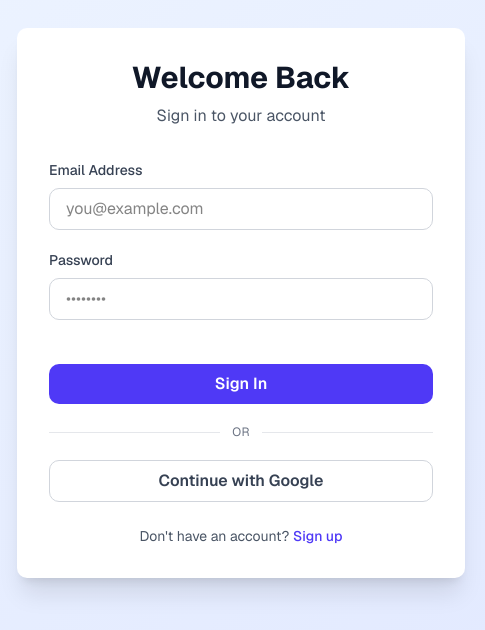
it: Login Component › Form Validation › shows password error when password is less than 6 characters
The image size is (485, 630).
Type "test@example.com" into the field with test id "email-input".
click(241, 209); type("test@example.com")  # box [49,188,433,230]
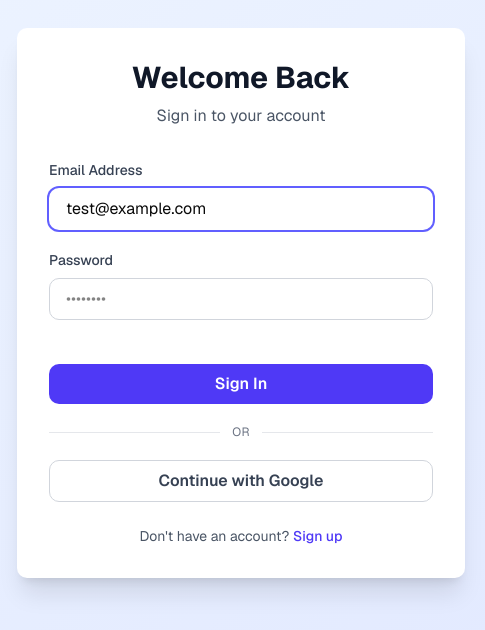
Type "short" into the password field with test id "password-input".
click(241, 299); type("short")  # box [49,278,433,320]
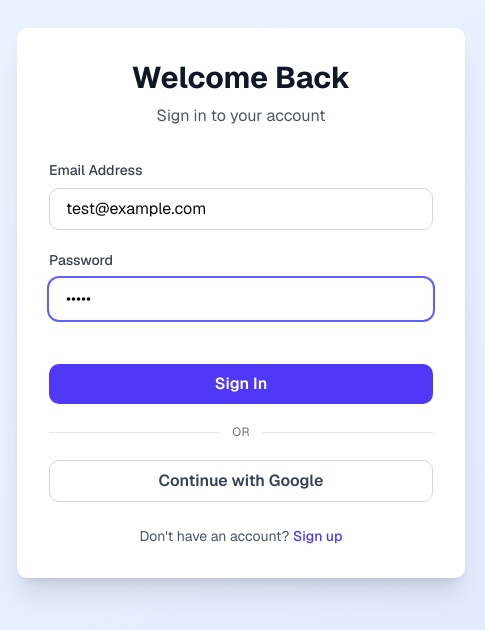
Click the button with test id "submit-button".
click(241, 384)  # box [49,364,433,404]
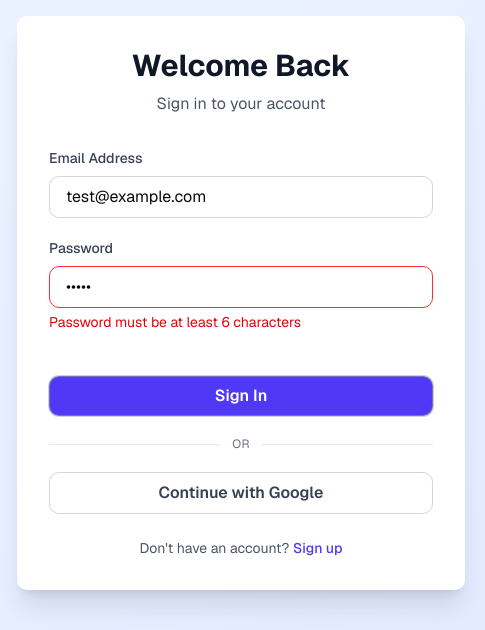
Check: the text with test id "password-error" reads "Password must be at least 6 characters", box [49,313,301,331]
